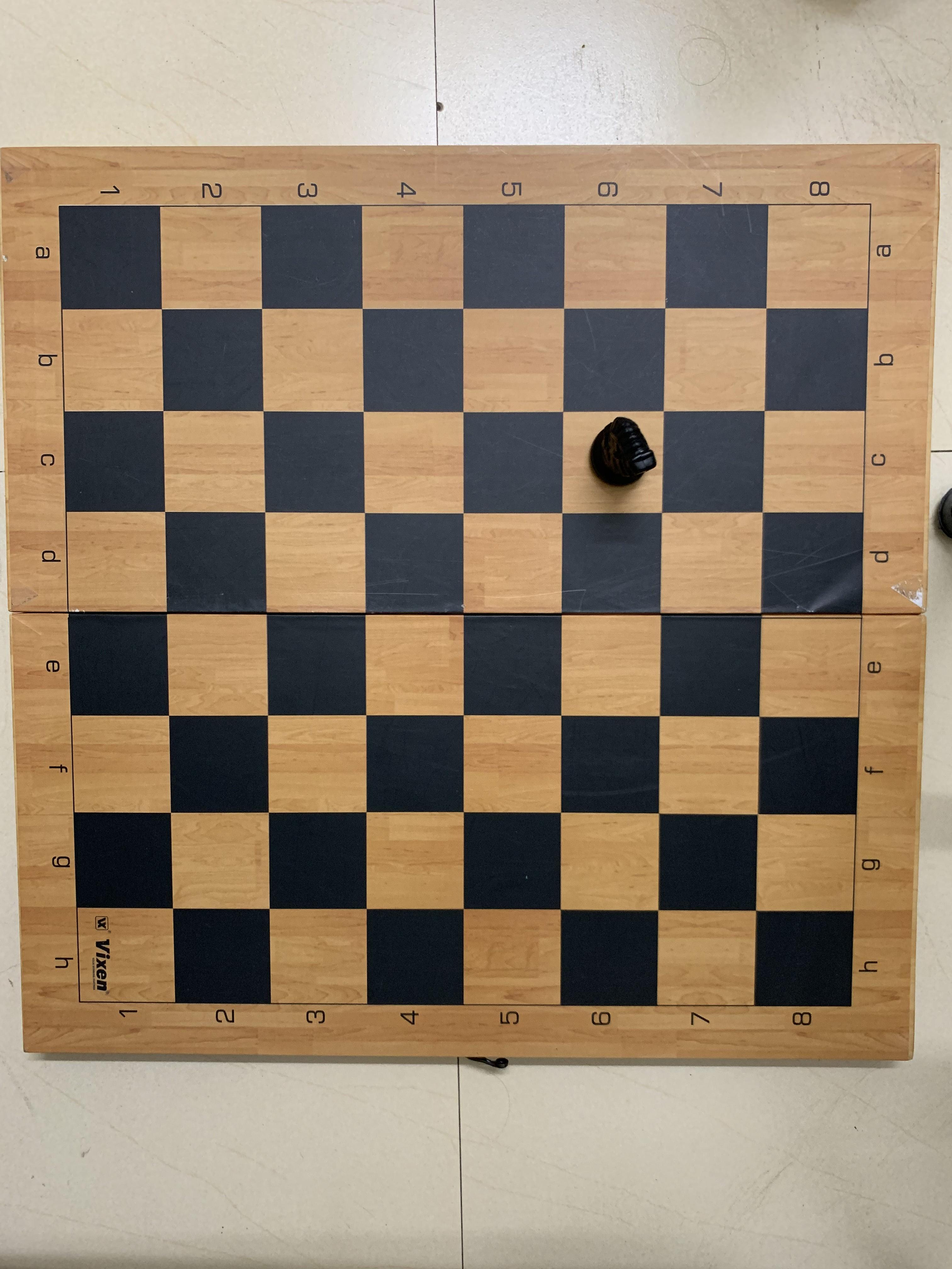black_knight: (570, 413, 663, 513)
